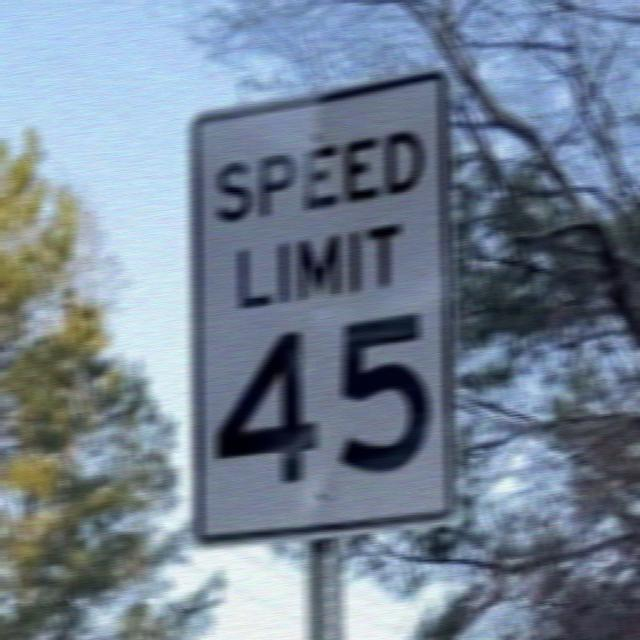speedLimit45: (192, 120, 449, 514)
